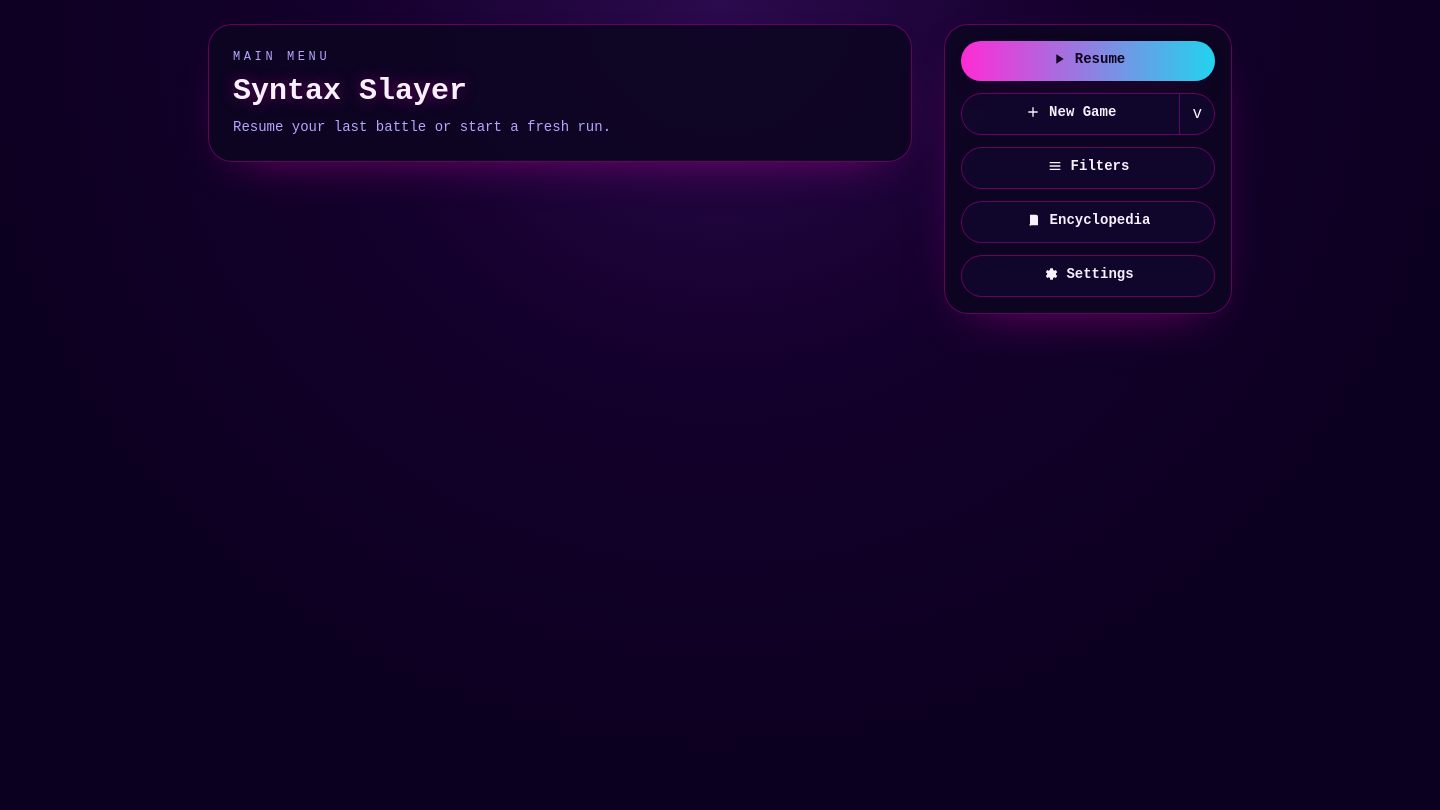
Test: GamePage victory loot flow › does not grant loot when choosing +2 ATK
Click the button "Resume".
click(1088, 61)  # box [961,41,1215,81]
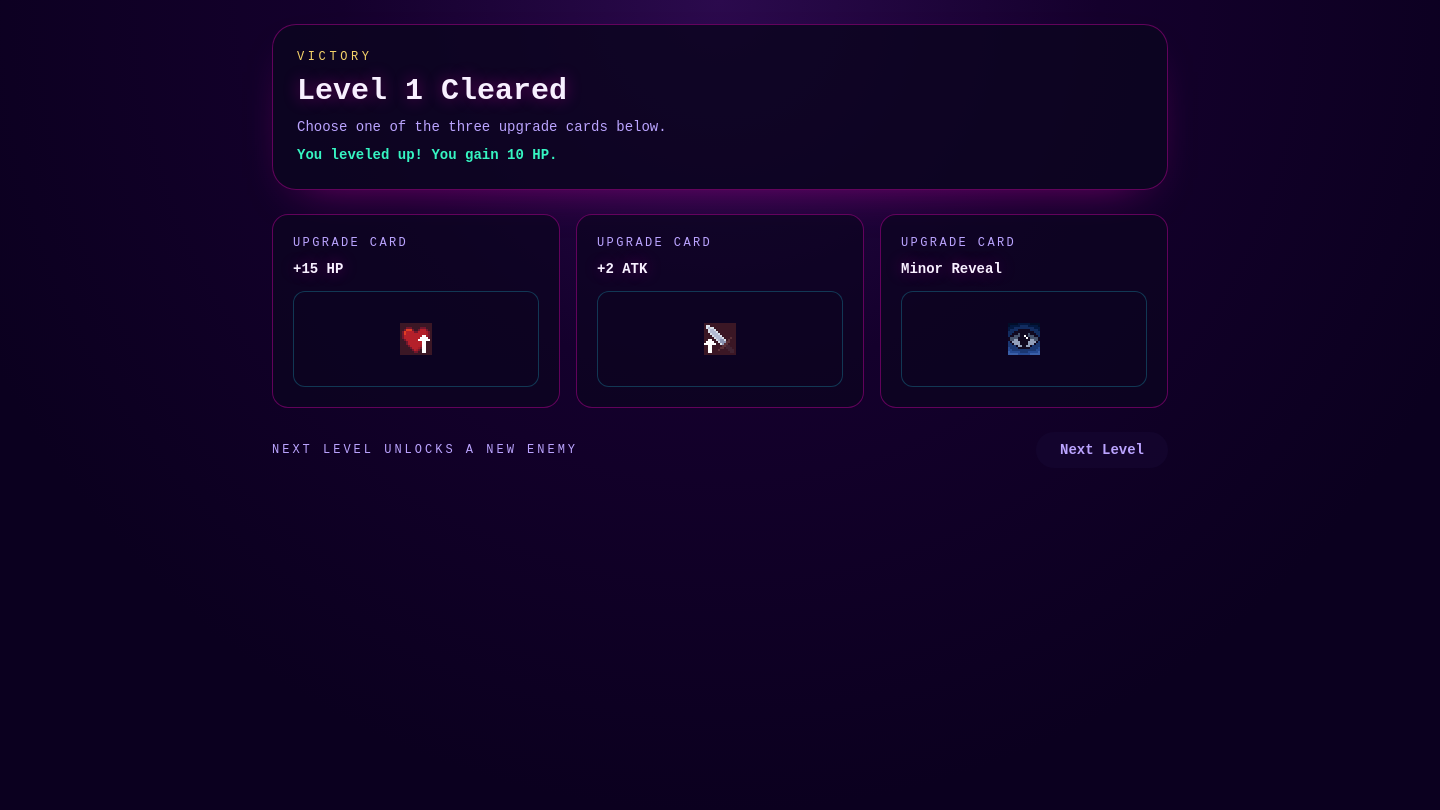
Click the text "+2 ATK".
click(622, 269)  # box [597,261,647,277]
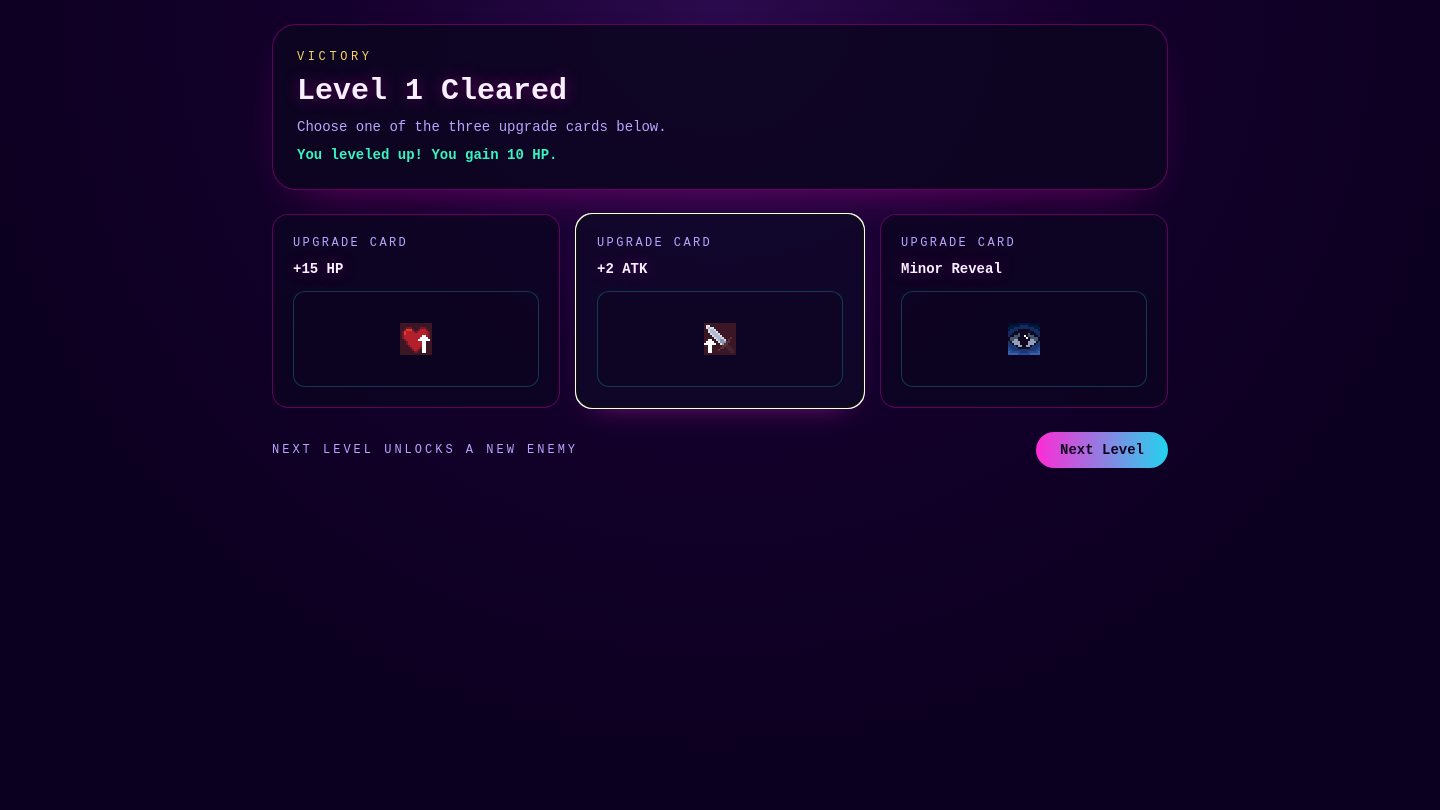
Click the button "Next Level".
click(1102, 450)  # box [1036,432,1168,468]
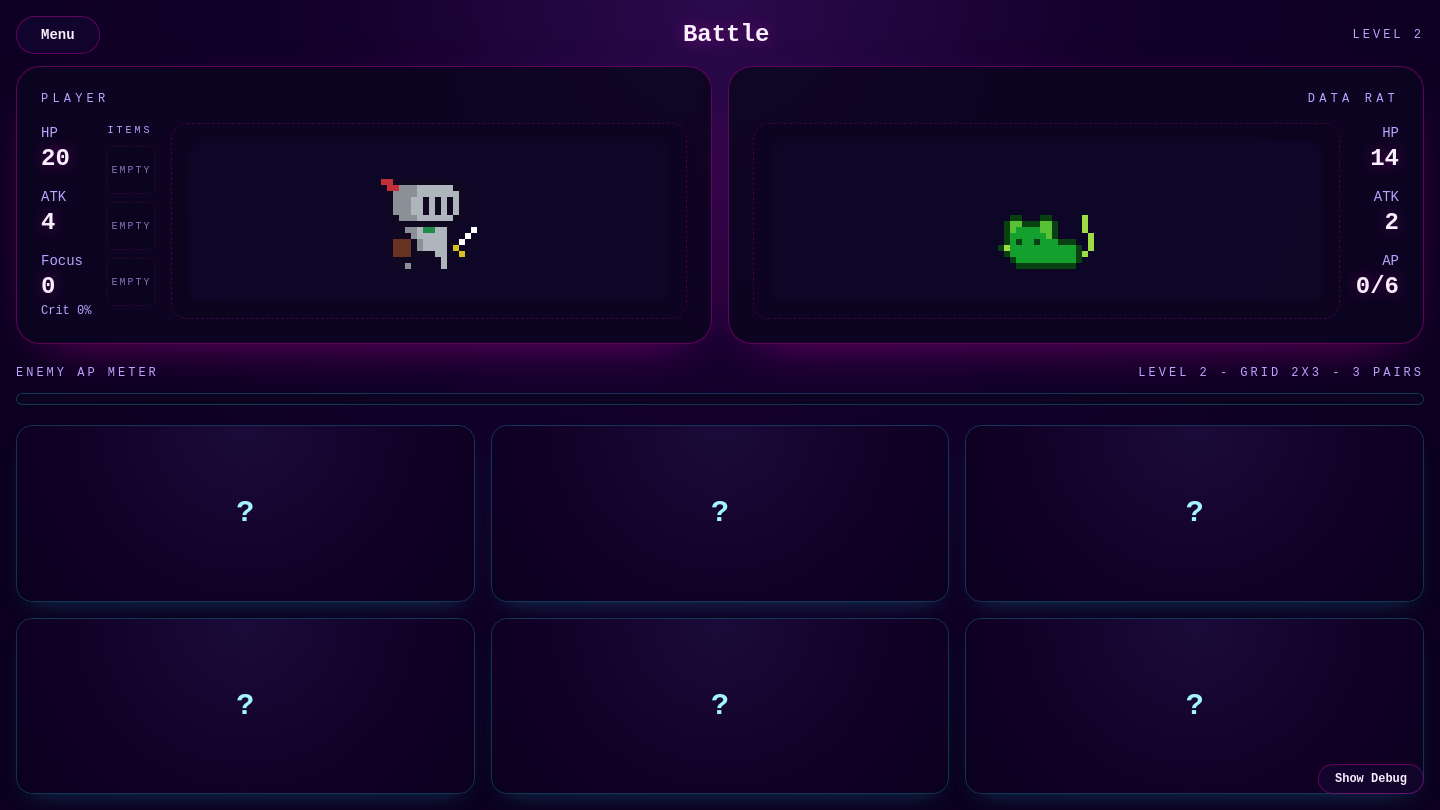
Expected: the heading "Battle" is shown, [683,19,769,51]
Expected: the number of buttons "Empty" is 3, [107,146,155,194]; [107,202,155,250]; [107,258,155,306]
